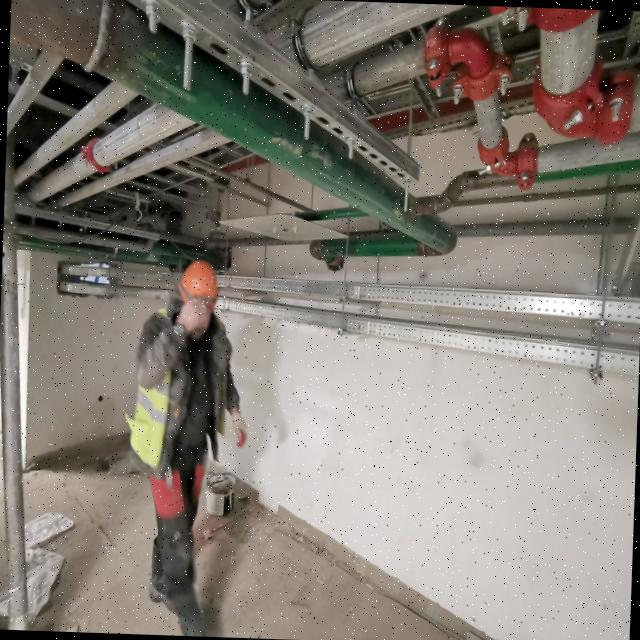Helmet: (177, 263, 222, 318)
Jacket: (130, 318, 221, 477)
